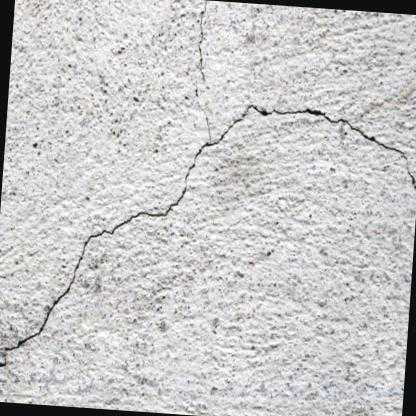crack: (0, 104, 416, 367)
